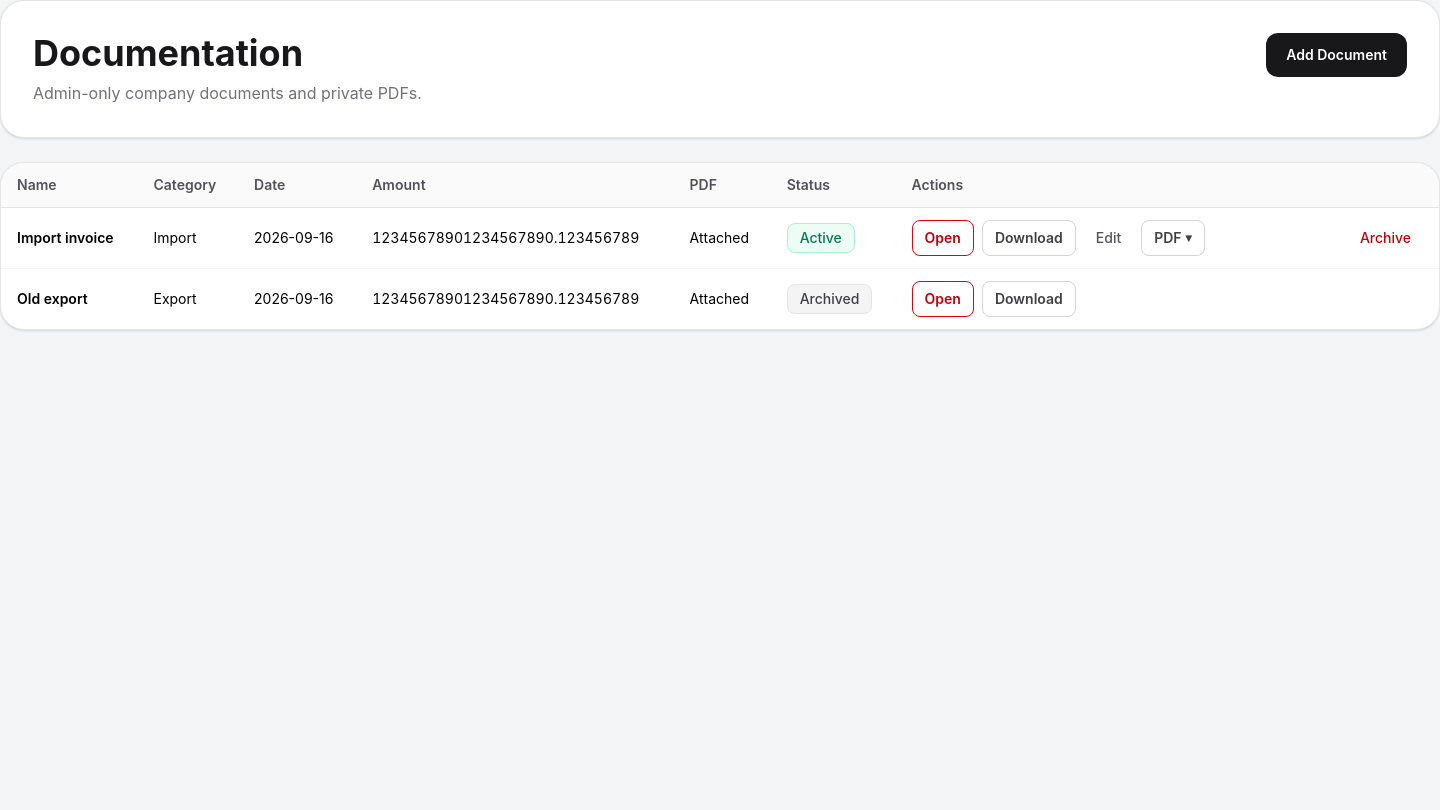
Documentation page › shows a safe access failure inside the viewer without raw authorization details
Click the button "Open" in the row of "Import invoice". click: (943, 238)
box: [912,220,974,256]
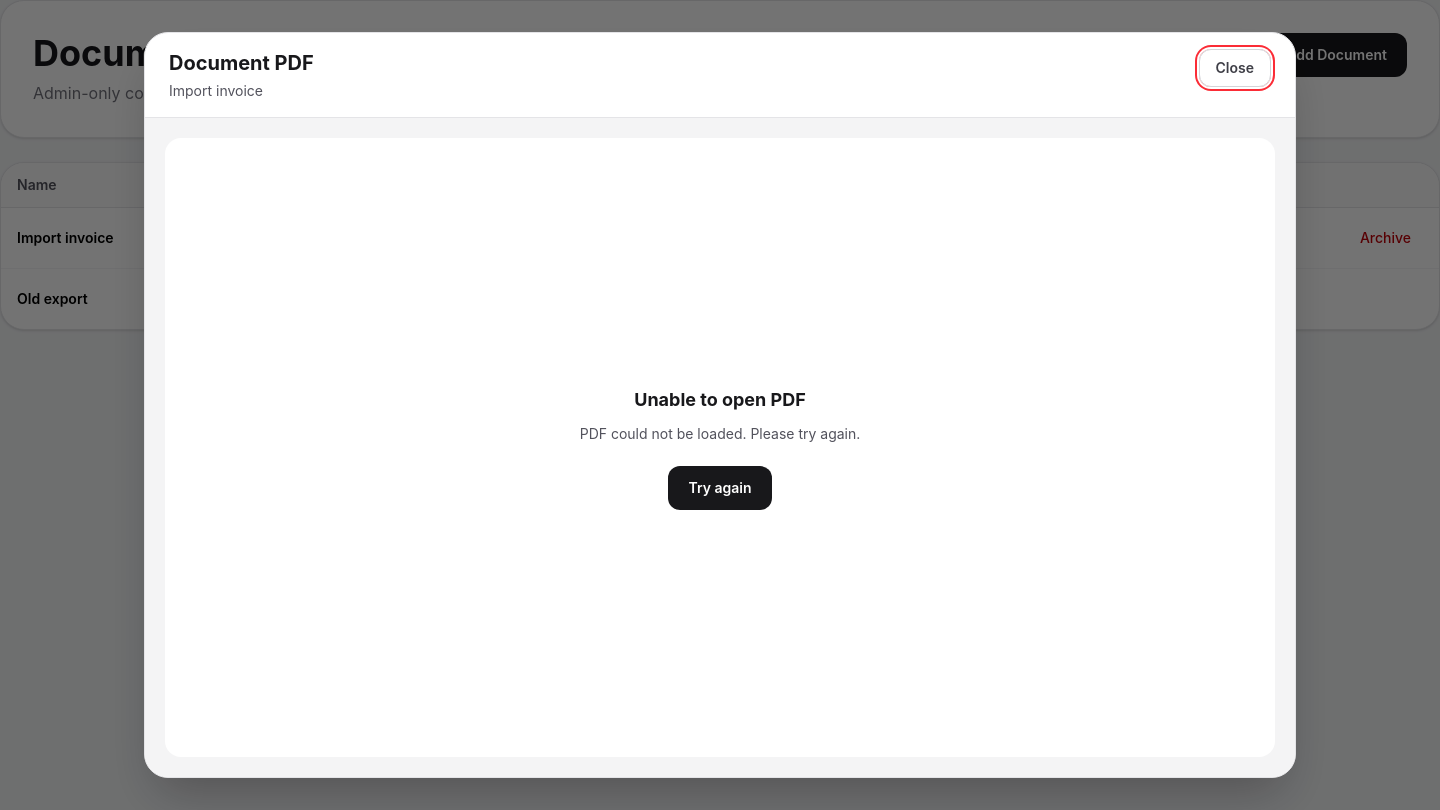
Check: the message reads "PDF could not be loaded. Please try again.", box [580,424,860,442]
